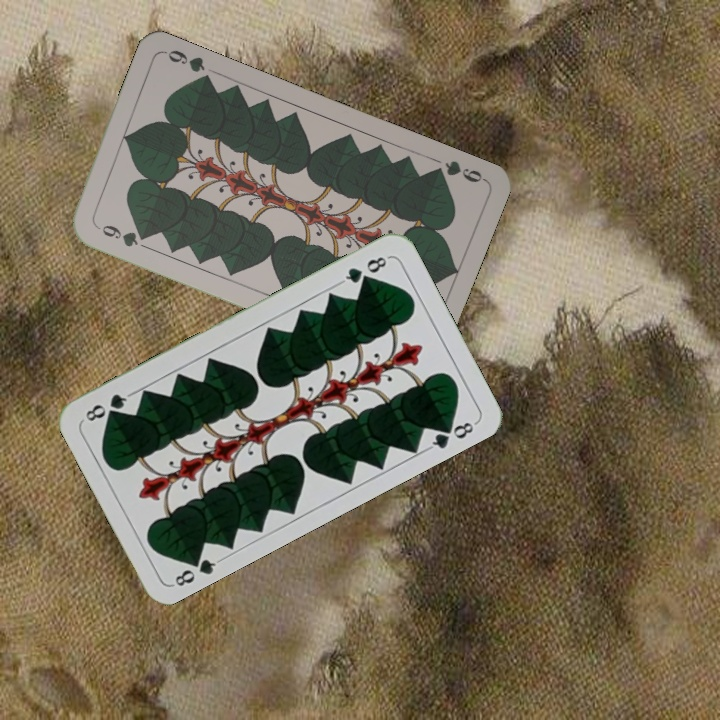G8: (169, 549, 224, 590), (337, 252, 392, 286)
G9: (427, 156, 487, 185), (92, 221, 151, 250)
